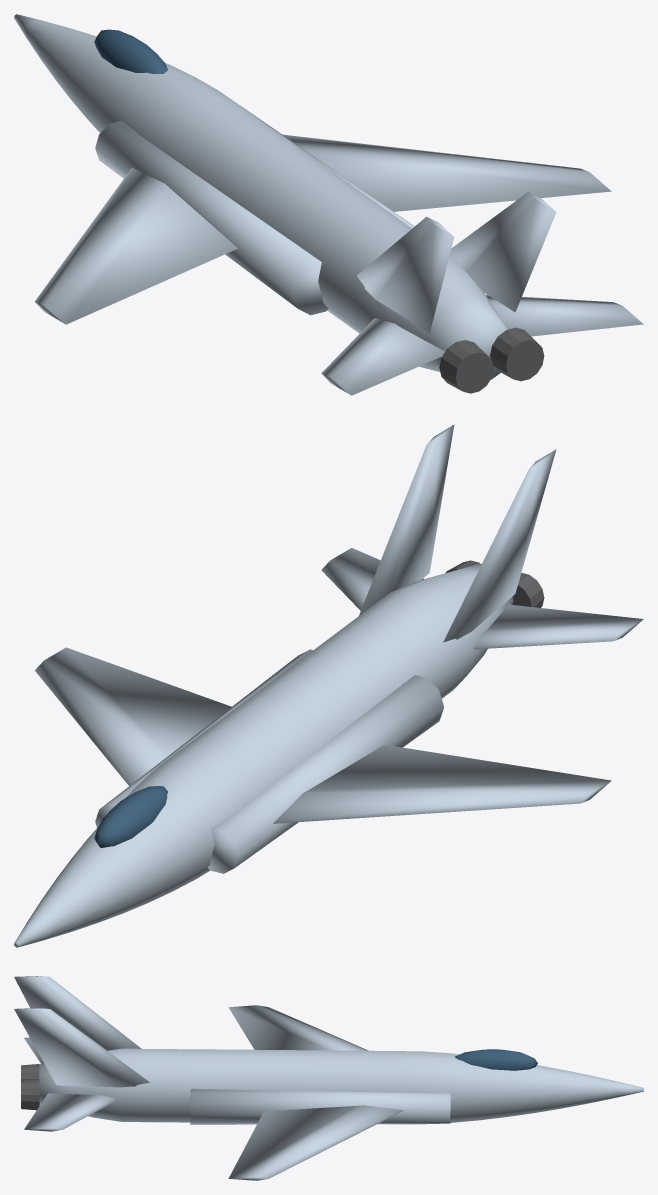
3 renders of one model, top to bottom at view 1: azimuth 30°, elevation 25°; view 2: azimuth 150°, elevation 25°; view 3: azimuth 270°, elevation 25°, orthographic. The views are drawn at different scales.
Visible parts, largest first — view 1: Body, Detail, Canopy; view 2: Body, Canopy, Detail; view 3: Body, Canopy, Detail.
Part boxes in pixels (x1,y1,x2,y2): Body: (14,14,643,395); Detail: (439,327,544,393); Canopy: (94,29,167,73); Body: (14,424,643,947); Canopy: (94,786,167,847); Detail: (445,560,544,607); Body: (14,976,643,1180); Canopy: (455,1049,537,1070); Detail: (21,1064,39,1110).
Bounding box in the file's own units: 1470 × 512 × 2281.
